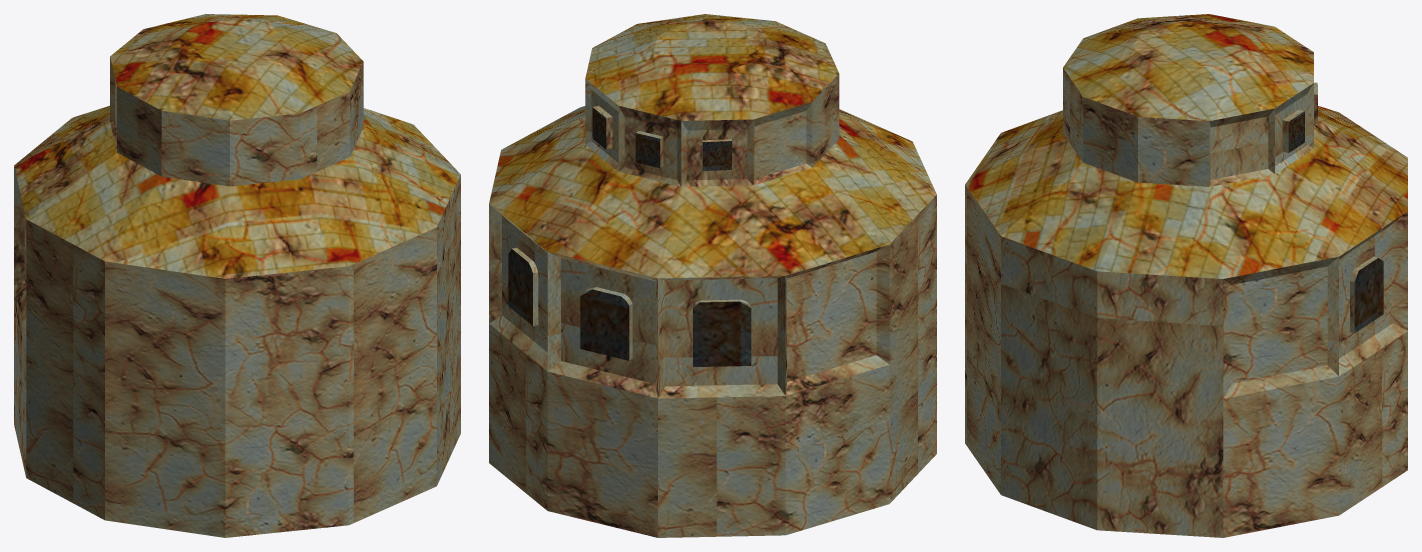
File: 建物役所.fbx
3 renders of one model, left to right at view 1: azimuth 30°, elevation 25°; view 2: azimuth 150°, elevation 25°; view 3: azimuth 270°, elevation 25°, orthographic.
Parts seen in each view (by area): view 1: 建物B, 建物B.001; view 2: 建物B, 建物B.001, 建物B.002; view 3: 建物B, 建物B.001, 建物B.002.
Part boxes in pixels (x1,y1,x2,y2): 建物B: [14, 57, 460, 537]; 建物B.001: [14, 14, 460, 278]; 建物B: [489, 74, 936, 537]; 建物B.001: [489, 14, 936, 278]; 建物B.002: [508, 107, 751, 366]; 建物B: [965, 68, 1407, 537]; 建物B.001: [965, 14, 1407, 278]; 建物B.002: [1288, 111, 1383, 332].
Bounding box in the file's own units: 255 × 251 × 253.
2 materials, 2 textured.
